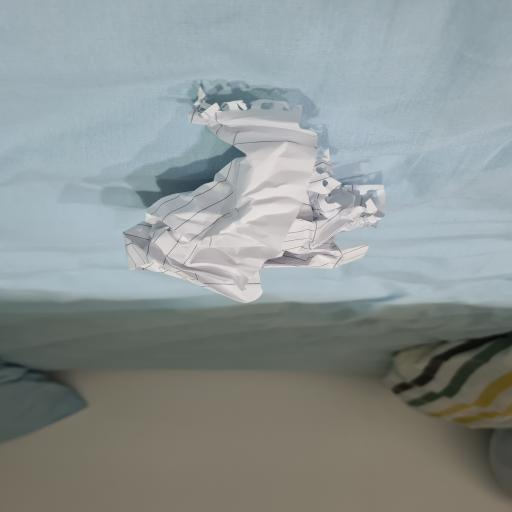Kertas: (124, 89, 380, 302)
